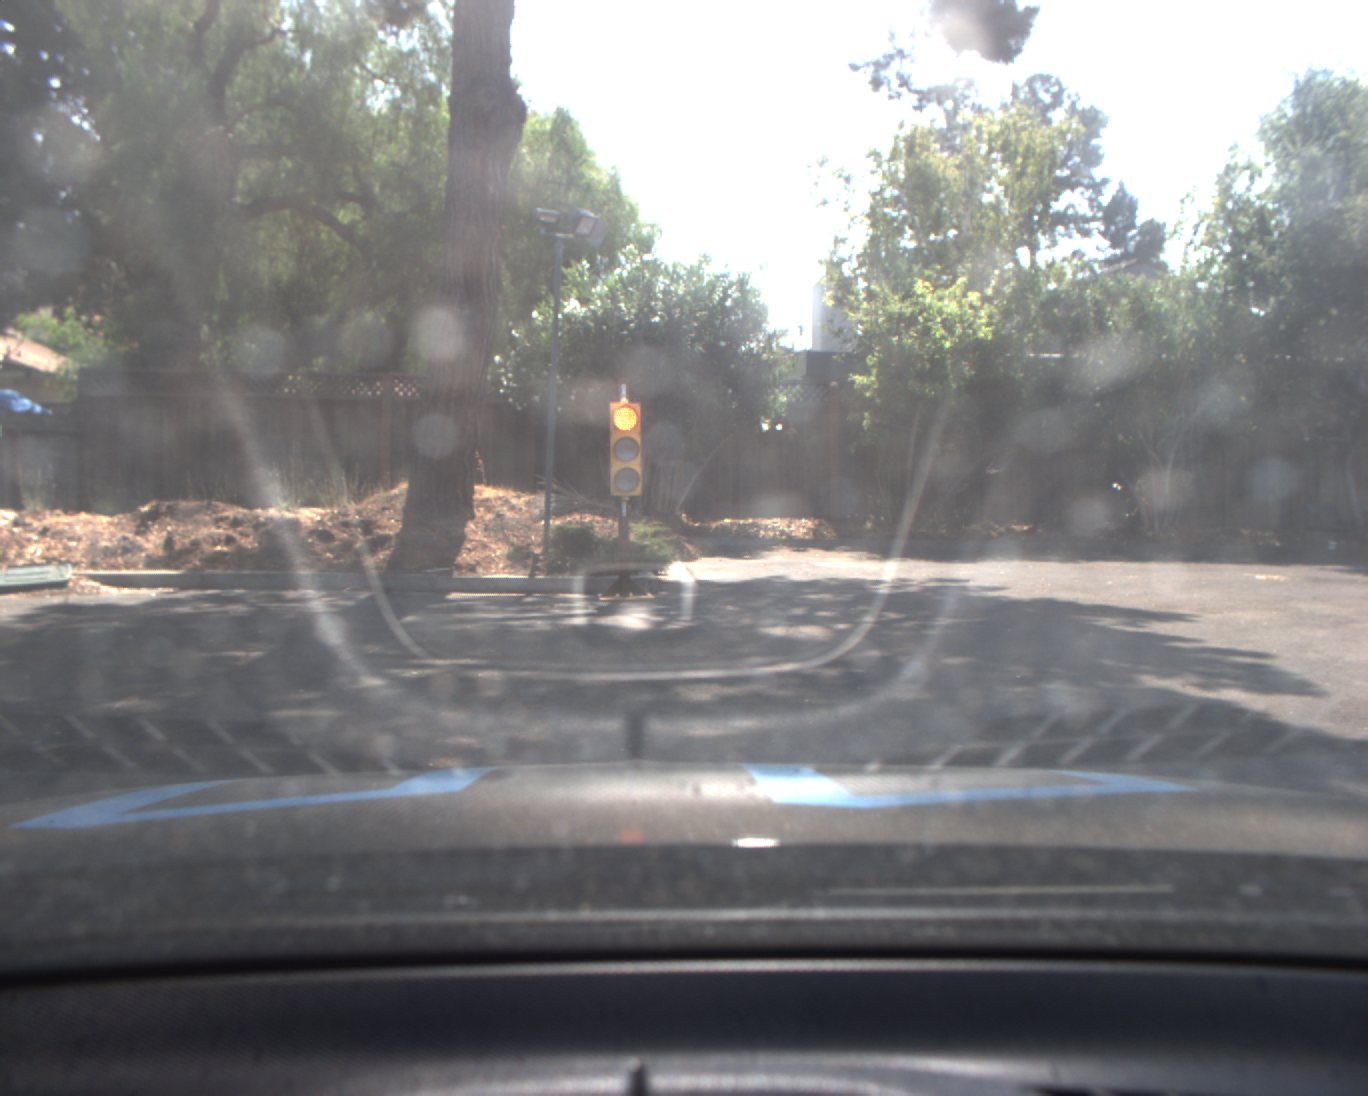red: (604, 396, 645, 498)
